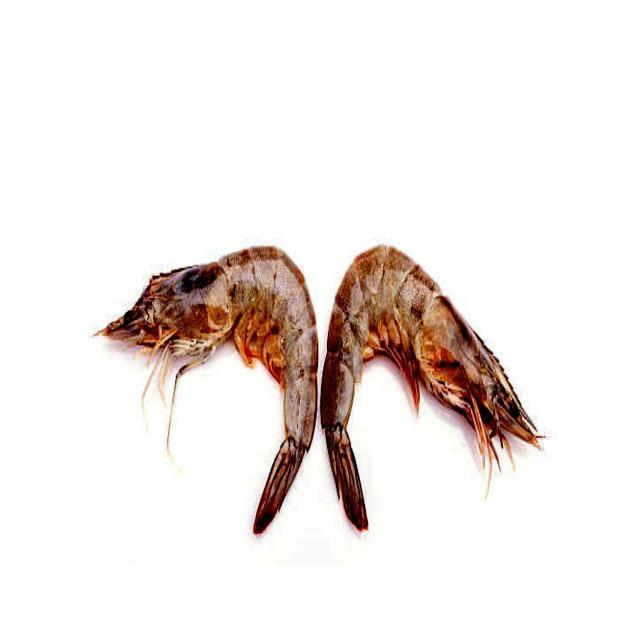shrimp: (321, 246, 539, 528), (101, 248, 317, 532)
